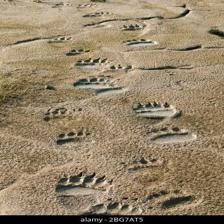bear: (53, 170, 114, 206), (131, 100, 179, 121)
